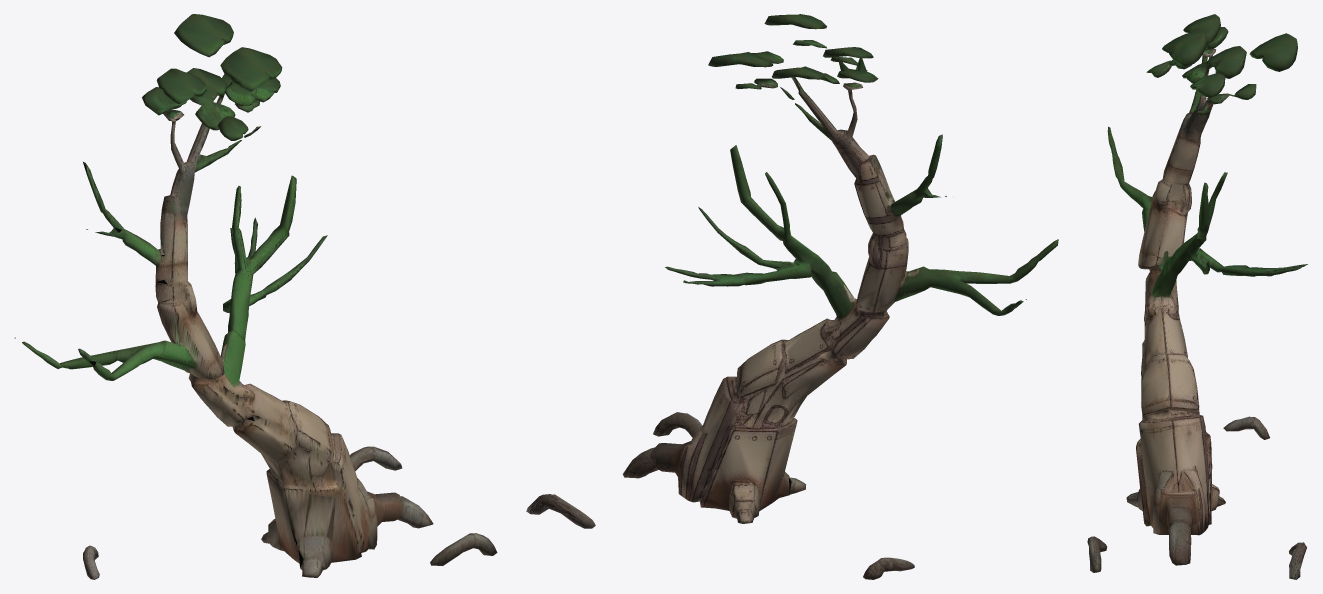
Rendered from prop_tree_b.glb.
The picture shows the model from 3 angles, left to right: view 1: azimuth 30°, elevation 25°; view 2: azimuth 150°, elevation 25°; view 3: azimuth 270°, elevation 25°; orthographic projection. The views are drawn at different scales.
Parts seen in each view (by area): view 1: Mesh_0; view 2: Mesh_0; view 3: Mesh_0.
Boxes of the visible parts, <box> form: Mesh_0: <box>14,14,497,579</box>; Mesh_0: <box>526,14,1058,579</box>; Mesh_0: <box>1087,14,1307,579</box>.
Size of the model in its own units: 1.82 by 2 by 0.8803.
1 material, 1 textured.
